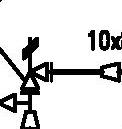psv: (20, 36, 50, 93)
